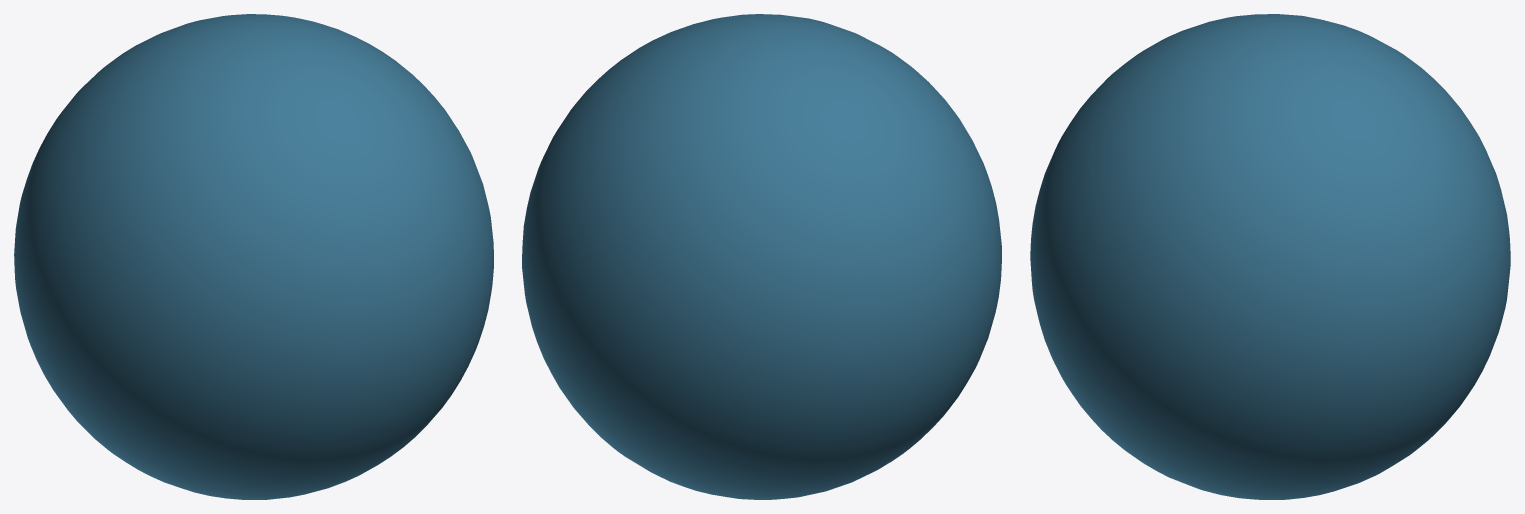
3 renders of one model, left to right at view 1: azimuth 30°, elevation 25°; view 2: azimuth 150°, elevation 25°; view 3: azimuth 270°, elevation 25°, orthographic.
Visible parts, largest first — view 1: defaultMaterial; view 2: defaultMaterial; view 3: defaultMaterial.
Part boxes in pixels (x1,y1,x2,y2): defaultMaterial: (14, 14, 493, 499); defaultMaterial: (522, 14, 1001, 499); defaultMaterial: (1030, 14, 1510, 499).
Bounding box in the file's own units: 1.96 × 2 × 1.96.
